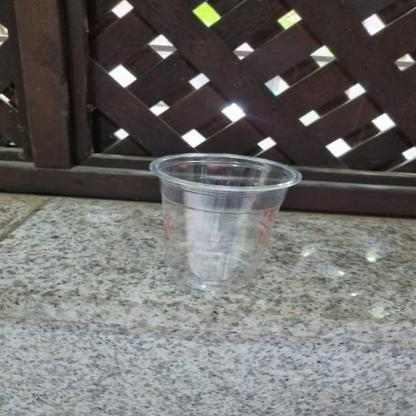Plastic Cup: (145, 146, 307, 296)
